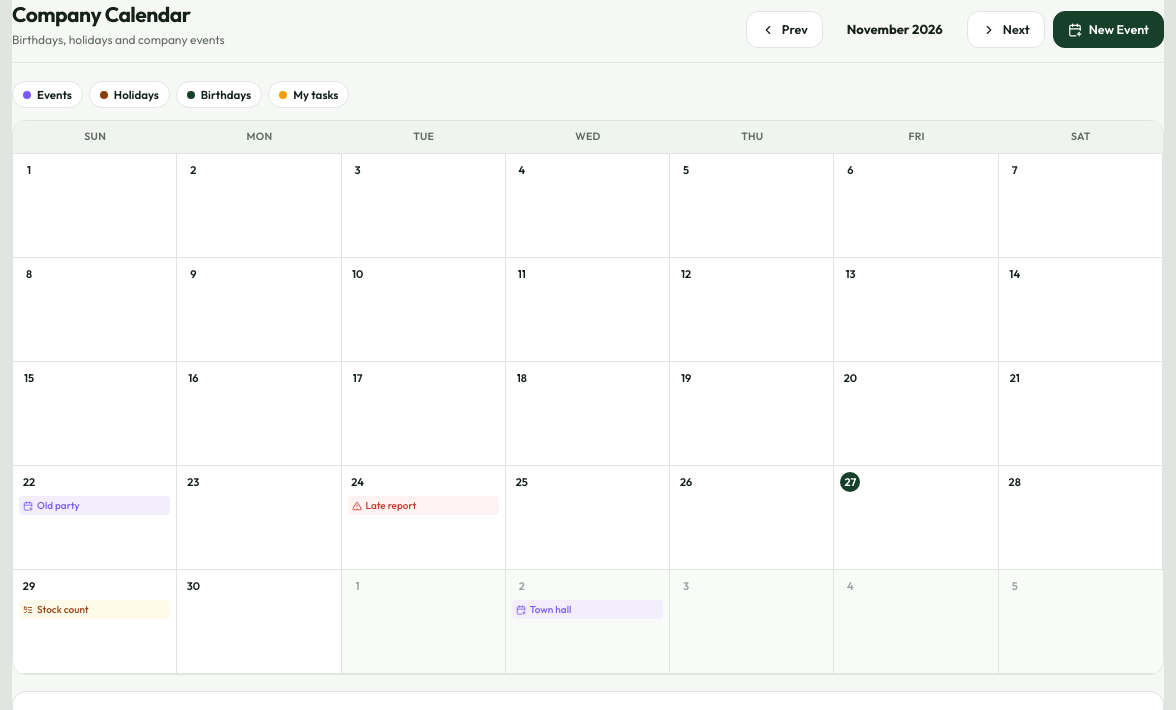
Test: Coming up › shows or hides each kind with the filter
Click the button "My tasks".
click(309, 95)  # box x1=268 y1=81 x2=349 y2=108
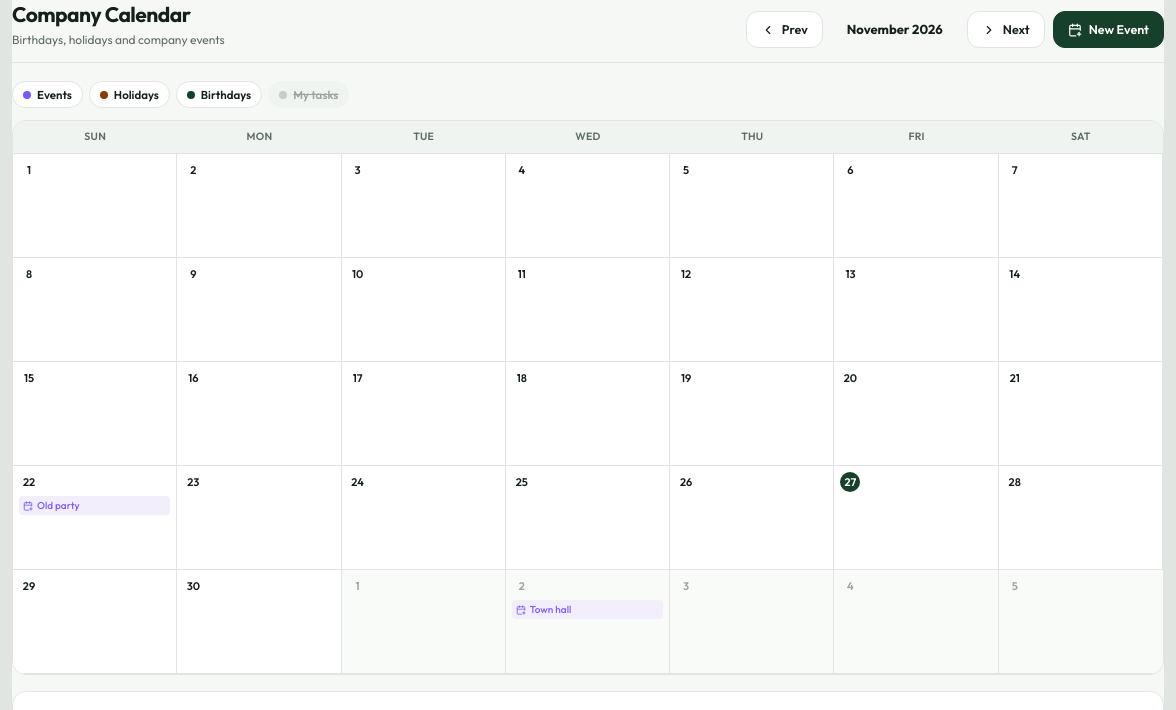
Now the button "Stock count" is gone
Now the button "Late report" is gone
Click the button "Holidays".
click(129, 95)  # box x1=89 y1=81 x2=170 y2=108
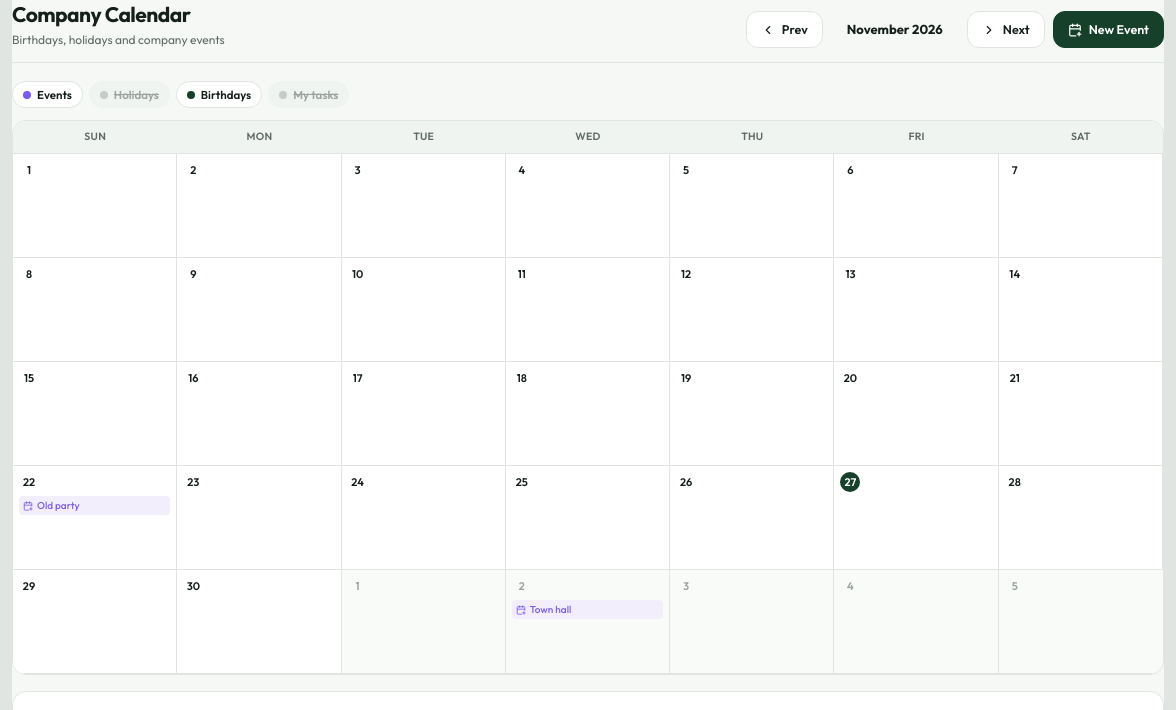
Click the button "My tasks".
click(309, 95)  # box x1=268 y1=81 x2=349 y2=108
(page scrolled)
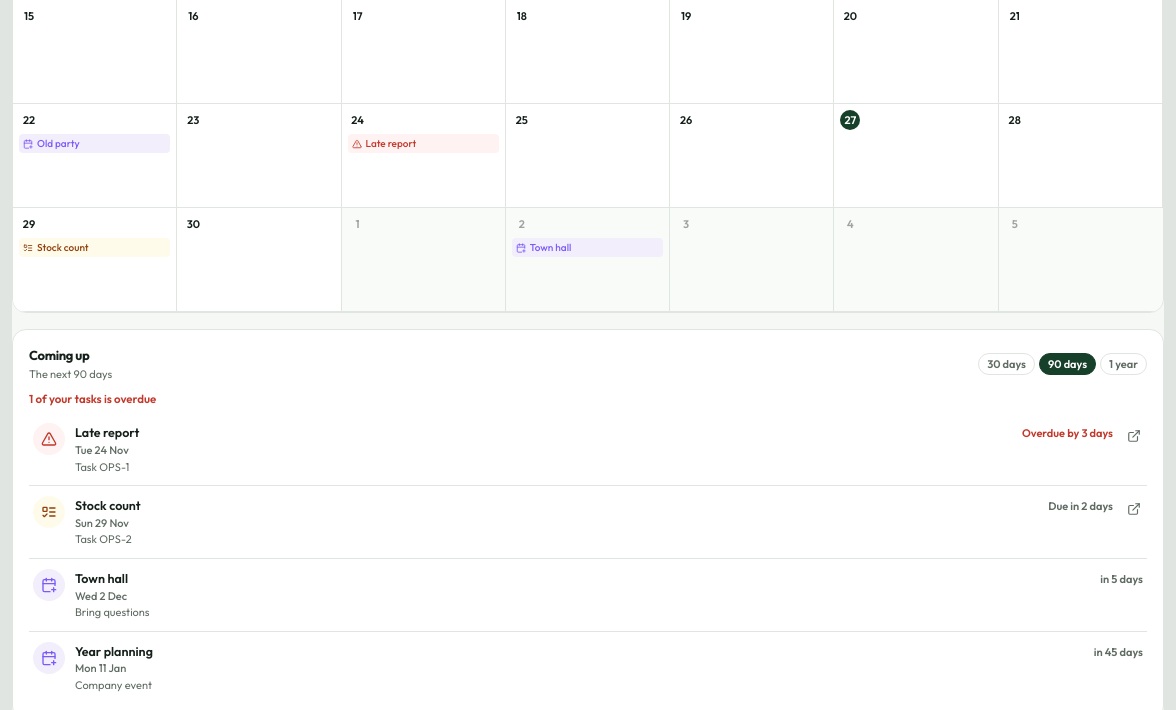
Now the text "Stock count" below "of your tasks" is shown, box x1=75 y1=497 x2=141 y2=513
